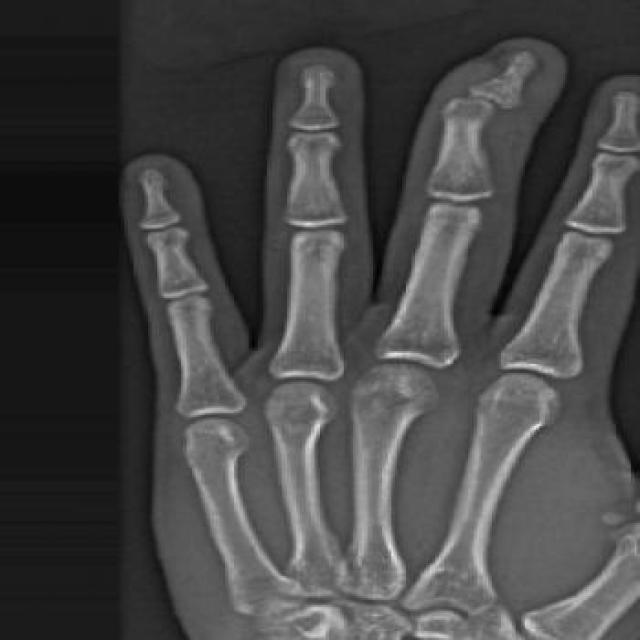Fracture: (442, 86, 518, 116)
